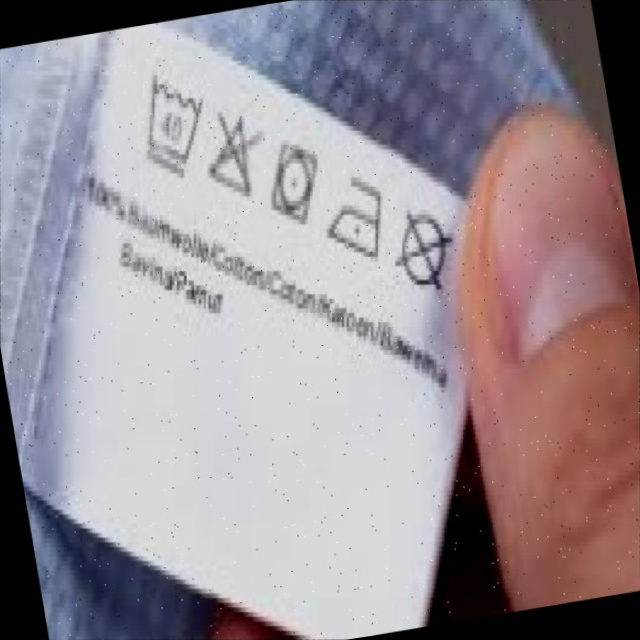40C: (118, 65, 221, 184)
DN_bleach: (190, 103, 279, 208)
DN_dry_clean: (378, 197, 470, 304)
iron_low: (312, 166, 401, 269)
tumble_dry_low: (254, 135, 334, 232)
